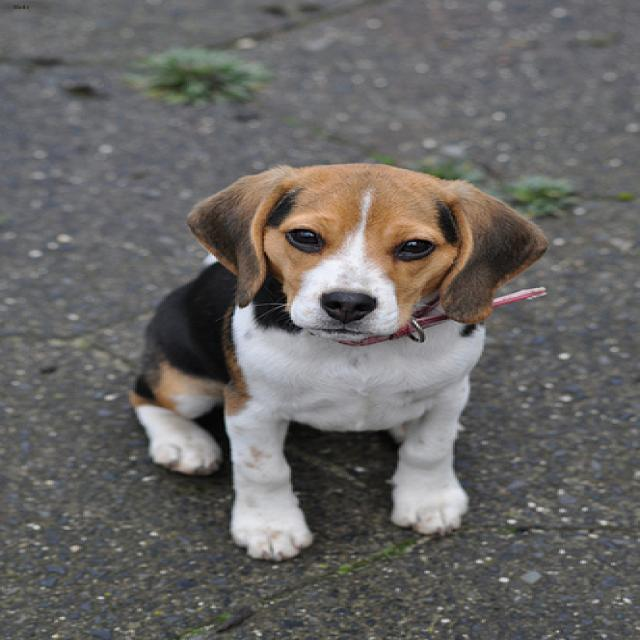dog-beagle: (104, 148, 551, 566)
